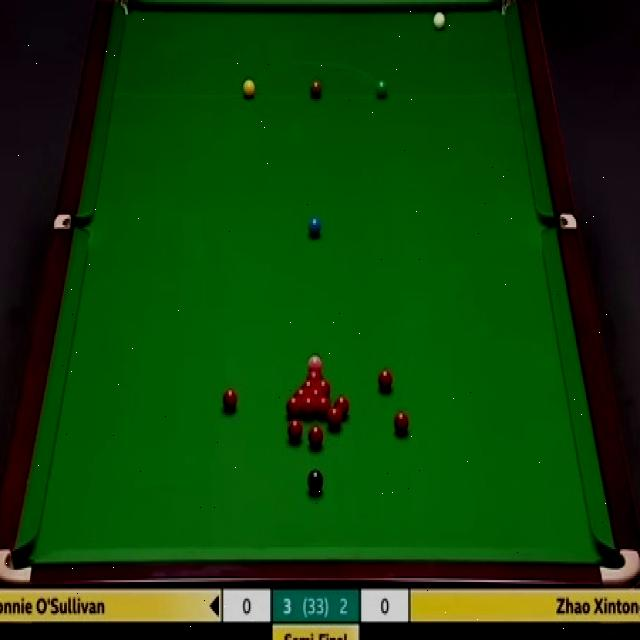black-ball: (308, 469, 324, 495)
blue-ball: (308, 216, 322, 236)
brown-ball: (309, 80, 323, 98)
green-ball: (375, 78, 388, 100)
pink-ball: (307, 353, 322, 366)
red-ball: (394, 409, 411, 438), (221, 388, 238, 414), (287, 418, 304, 442), (378, 368, 393, 394), (308, 424, 324, 448), (285, 395, 301, 418), (316, 396, 332, 419), (334, 395, 349, 418), (327, 408, 342, 430), (301, 394, 315, 416), (317, 378, 331, 394), (304, 367, 323, 377), (300, 378, 316, 388), (308, 387, 324, 396), (293, 387, 308, 396)
white-ball: (431, 7, 447, 32)
yellow-ball: (242, 79, 255, 98)
